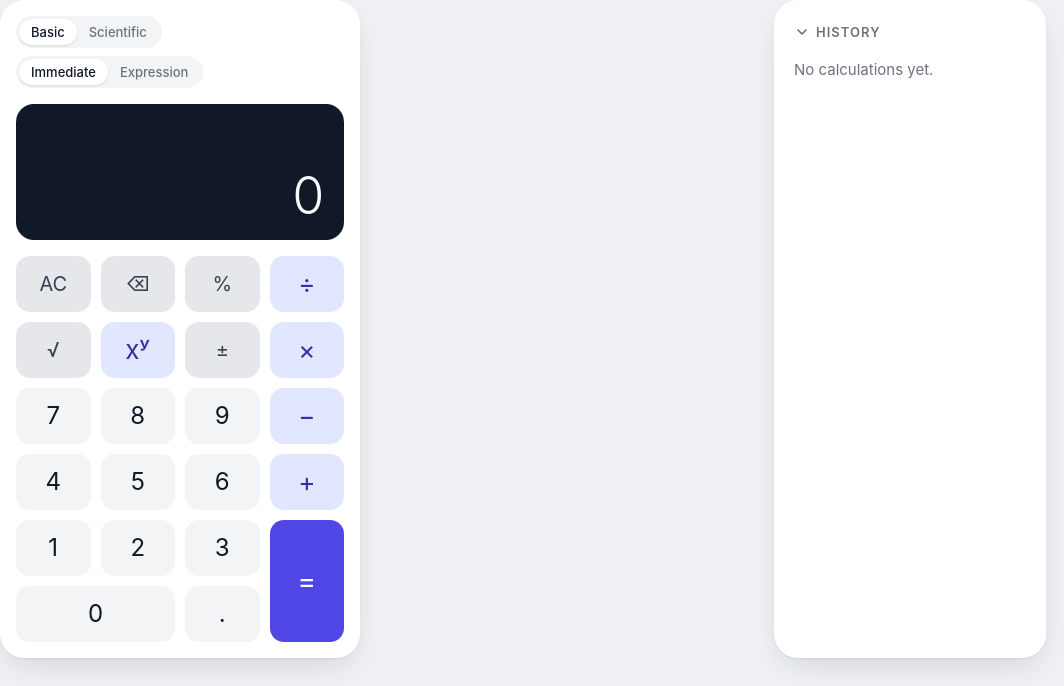
Test: Calculator › shows a message when the service is unreachable
The width and height of the screenshot is (1064, 686).
Click the button "1".
click(53, 548)  # box [16,520,90,576]
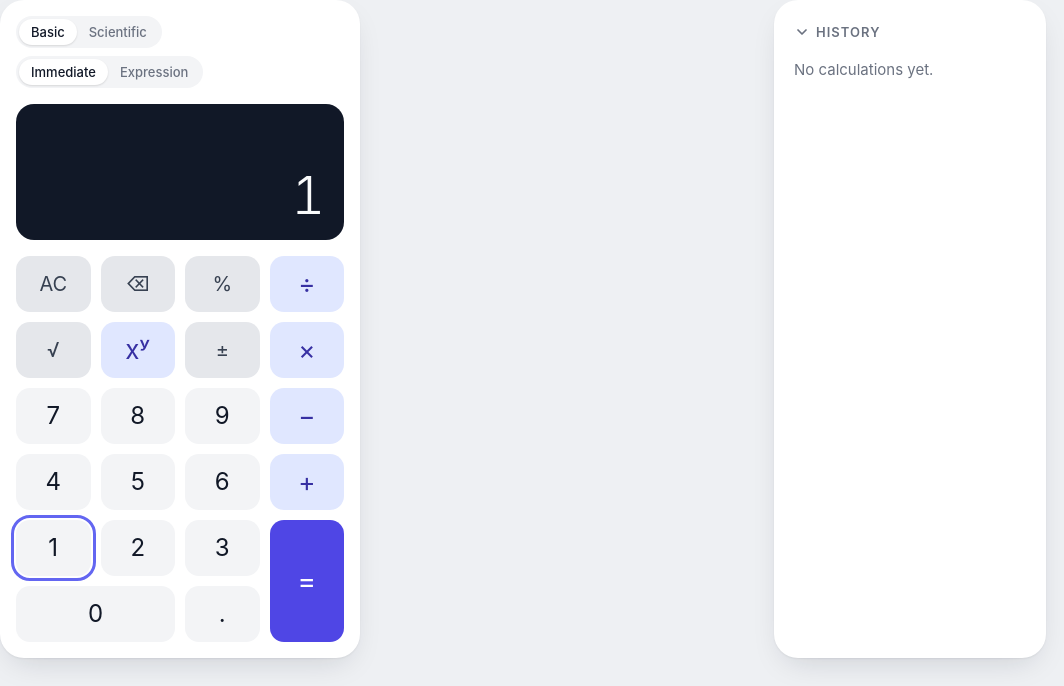
Click the button named "Add".
click(307, 482)  # box [270,454,344,510]
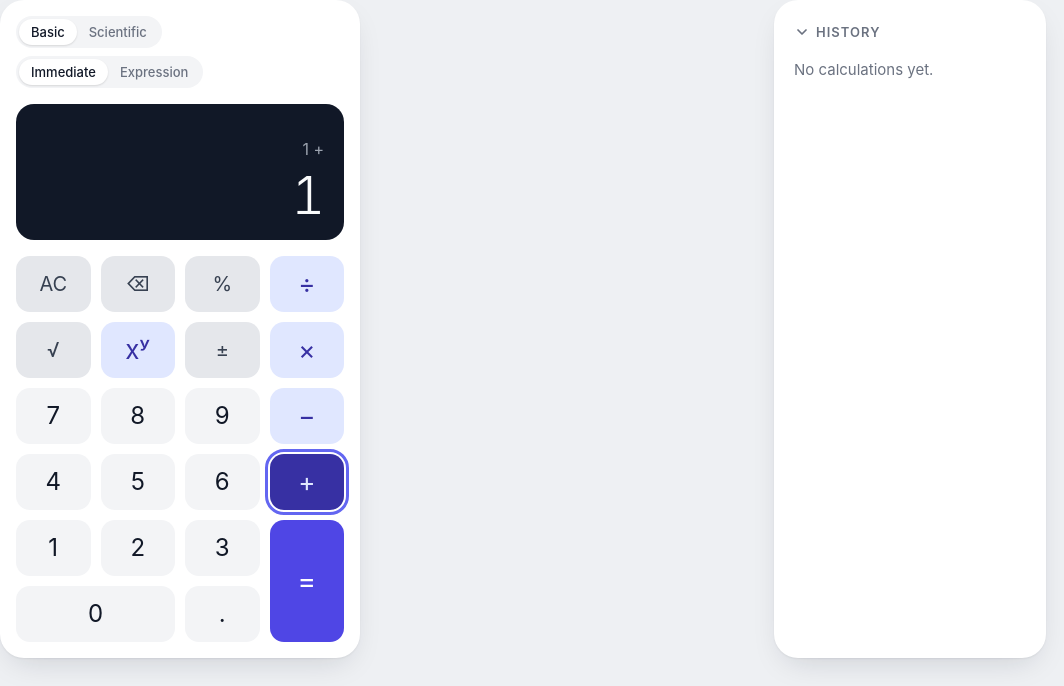
Click the button "1".
click(53, 548)  # box [16,520,90,576]
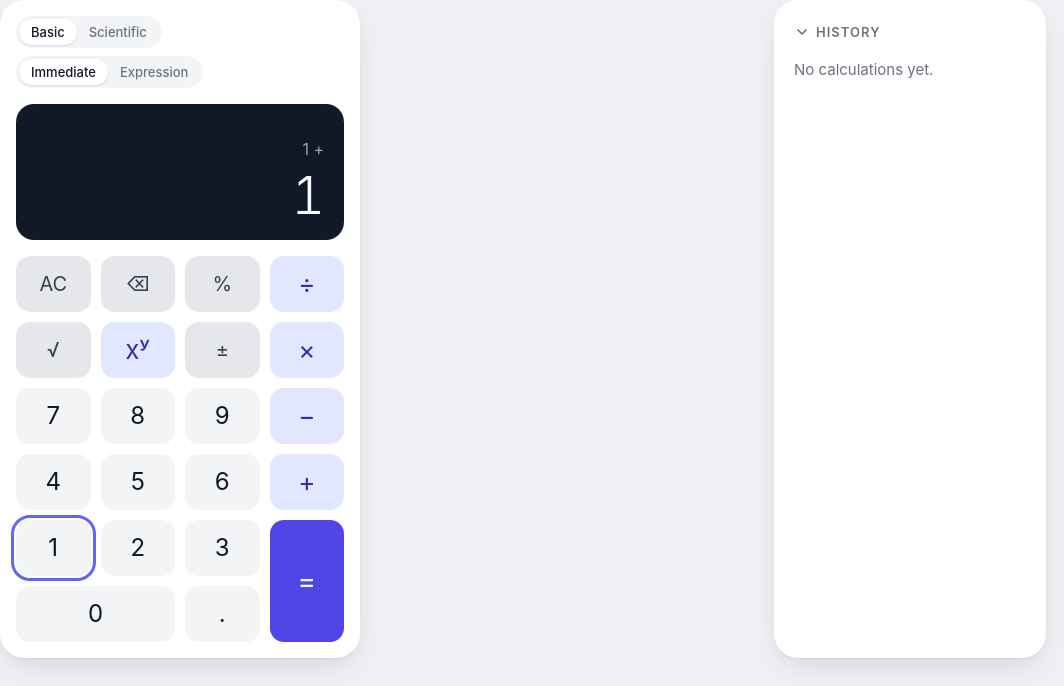
Click the button named "Equals".
click(307, 581)  # box [270,520,344,642]
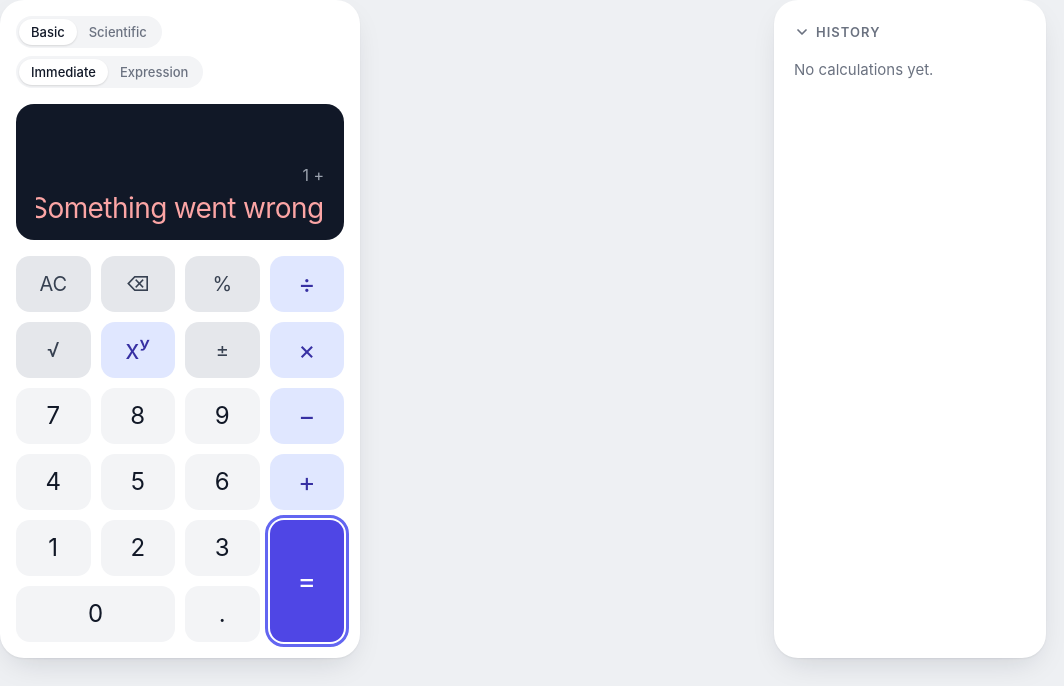
Expected: the message reads "Something went wrong", [30,191,324,225]
